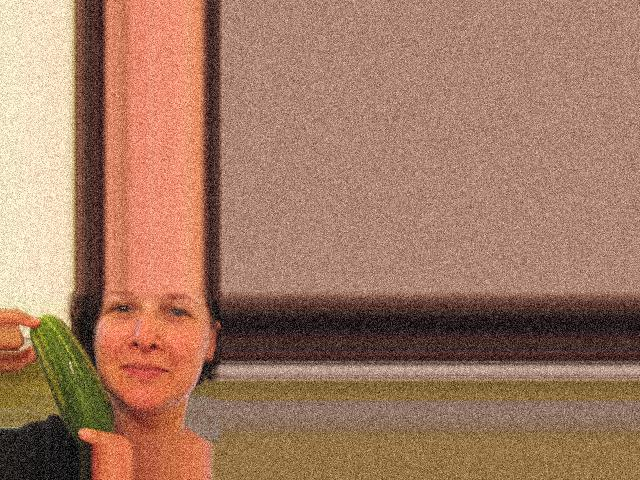cucumber: (31, 313, 115, 444)
